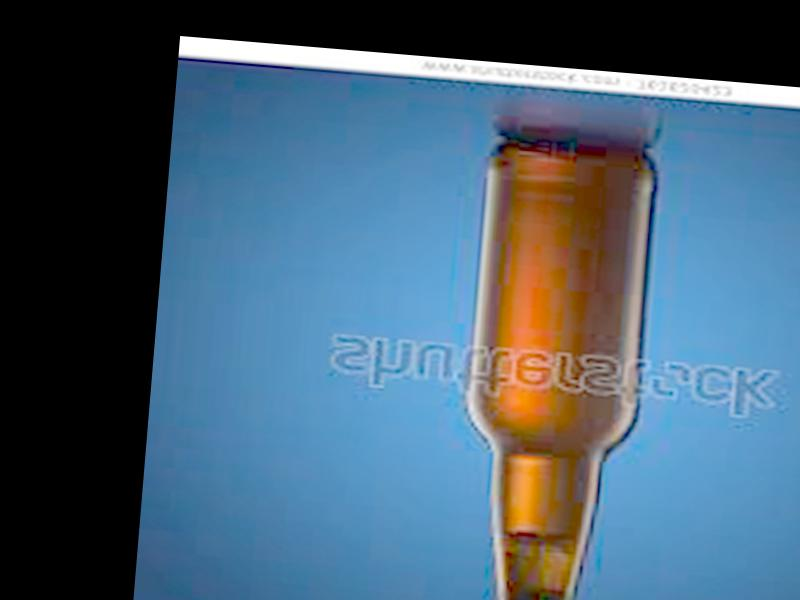Beer: (447, 137, 661, 600)
